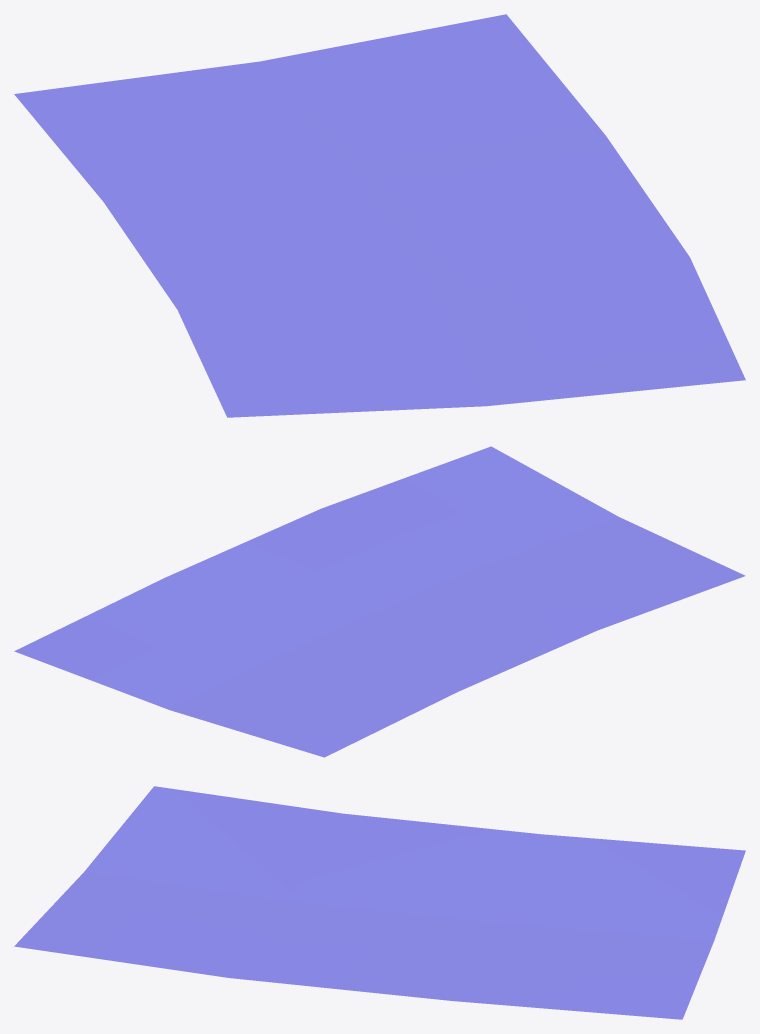
Rendered from track_la_coll_road_03.fbx.
The picture shows the model from 3 angles, top to bottom: view 1: azimuth 30°, elevation 25°; view 2: azimuth 150°, elevation 25°; view 3: azimuth 270°, elevation 25°; orthographic projection. The views are drawn at different scales.
Visible parts, largest first — view 1: track_la_coll_road_03; view 2: track_la_coll_road_03; view 3: track_la_coll_road_03.
Boxes of the visible parts, x1,y1,x2,y2 form: track_la_coll_road_03: (14,14,745,417); track_la_coll_road_03: (14,446,744,757); track_la_coll_road_03: (14,786,745,1019).
Bounding box in the file's own units: 36.3 × 0.4061 × 48.06.
